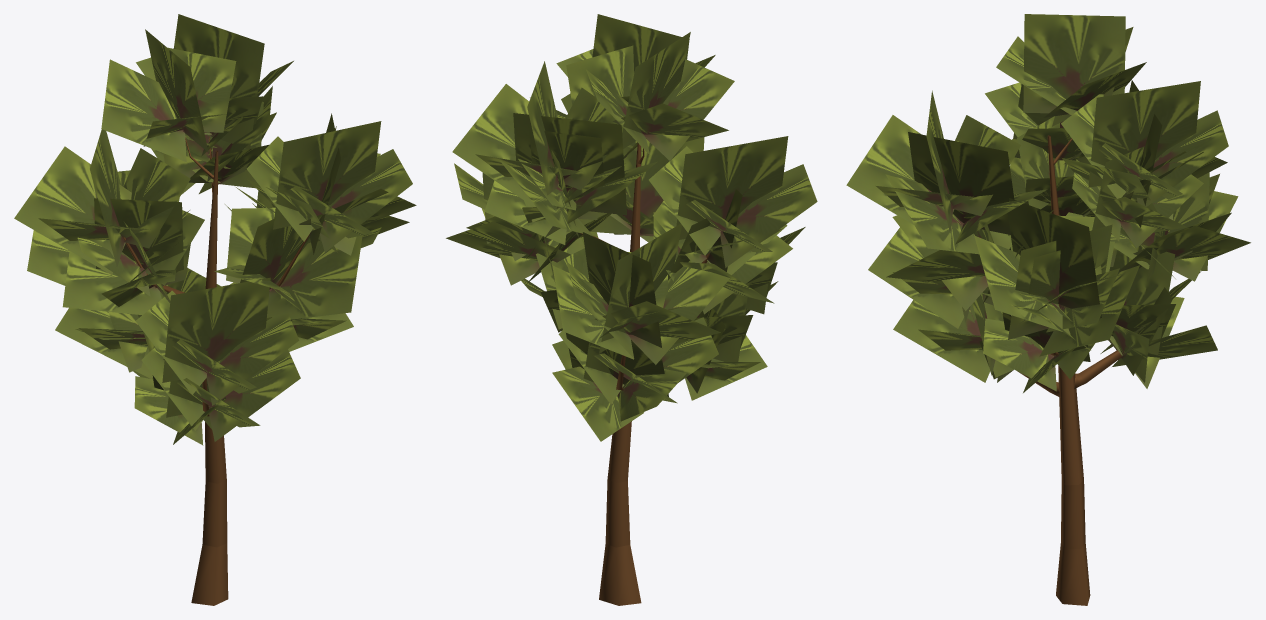
Rendered from Young_Pine_Tree_1.fbx.
3 views of the same model, side by side, from view 1: azimuth 30°, elevation 25°; view 2: azimuth 150°, elevation 25°; view 3: azimuth 270°, elevation 25° (orthographic).
Visible parts, largest first — view 1: Young_Pine_Tree_1; view 2: Young_Pine_Tree_1; view 3: Young_Pine_Tree_1.
Part boxes in pixels (x1=…): Young_Pine_Tree_1: x1=14, y1=14, x2=416, y2=605; Young_Pine_Tree_1: x1=446, y1=14, x2=817, y2=605; Young_Pine_Tree_1: x1=846, y1=14, x2=1250, y2=605.
Bounding box in the file's own units: 98.38 × 147 × 96.19.
Materials: 2 (2 with a texture image).
